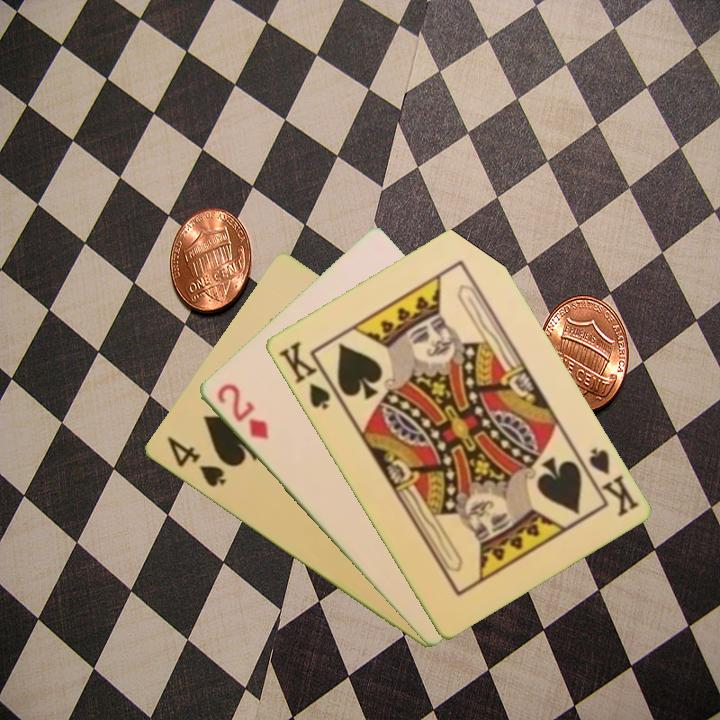2d: (212, 380, 272, 442)
4s: (162, 432, 229, 490)
Ks: (574, 444, 641, 520), (274, 337, 333, 413)
